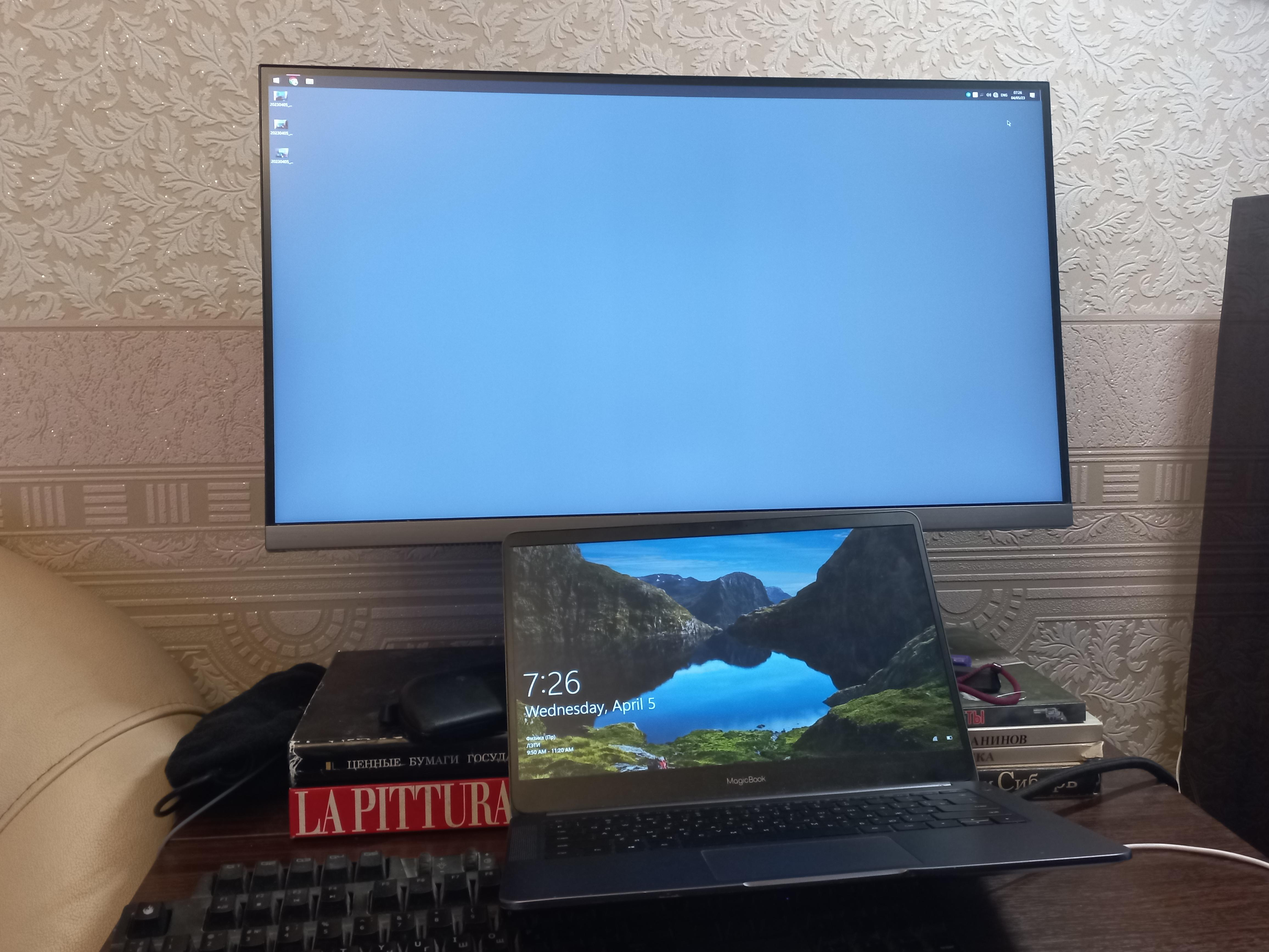monitor: (252, 62, 1083, 555), (497, 508, 982, 818)
